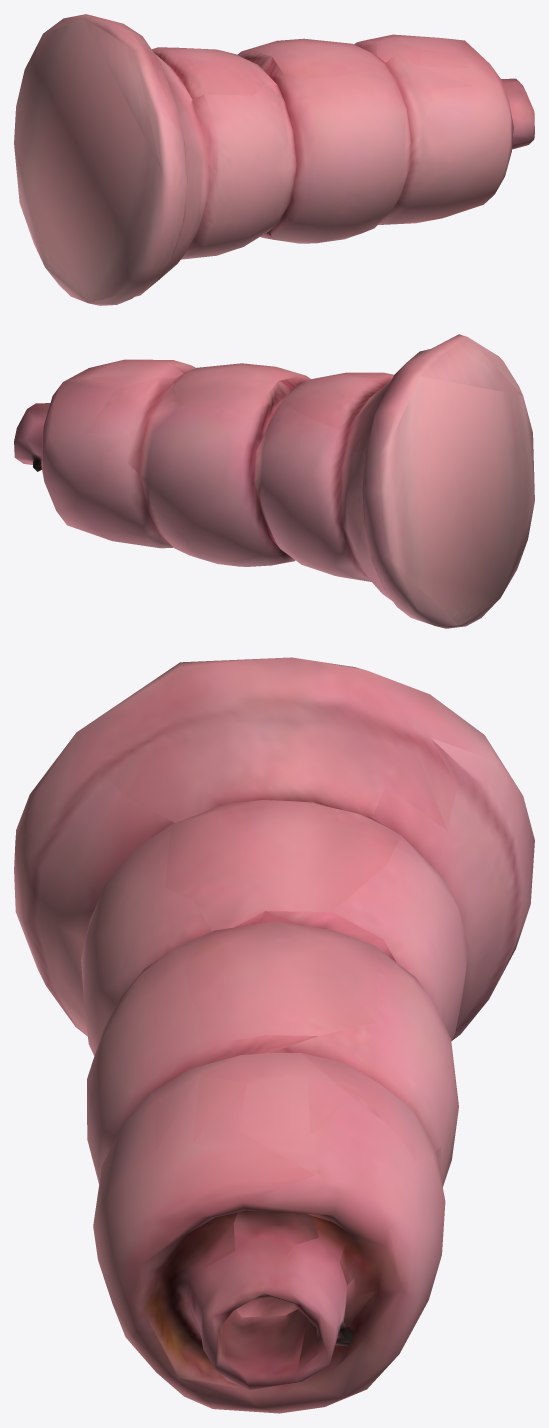
File: leg2_chirimecha.glb
The picture shows the model from 3 angles, top to bottom: view 1: azimuth 30°, elevation 25°; view 2: azimuth 150°, elevation 25°; view 3: azimuth 270°, elevation 25°; orthographic projection. The views are drawn at different scales.
Visible parts, largest first — view 1: leg 2; view 2: leg 2; view 3: leg 2.
Part boxes in pixels (x1=…): leg 2: x1=14, y1=14, x2=534, y2=305; leg 2: x1=14, y1=334, x2=534, y2=628; leg 2: x1=14, y1=657, x2=534, y2=1413.
Size of the model in its own units: 1.62 by 0.8902 by 0.9026.
Materials: 1 (1 with a texture image).
